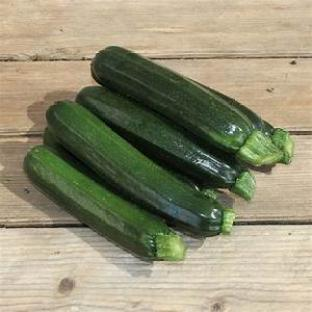Zucchini: (47, 101, 234, 236), (92, 47, 282, 166), (76, 87, 255, 199), (24, 146, 185, 261), (197, 83, 294, 164), (43, 127, 107, 186)
